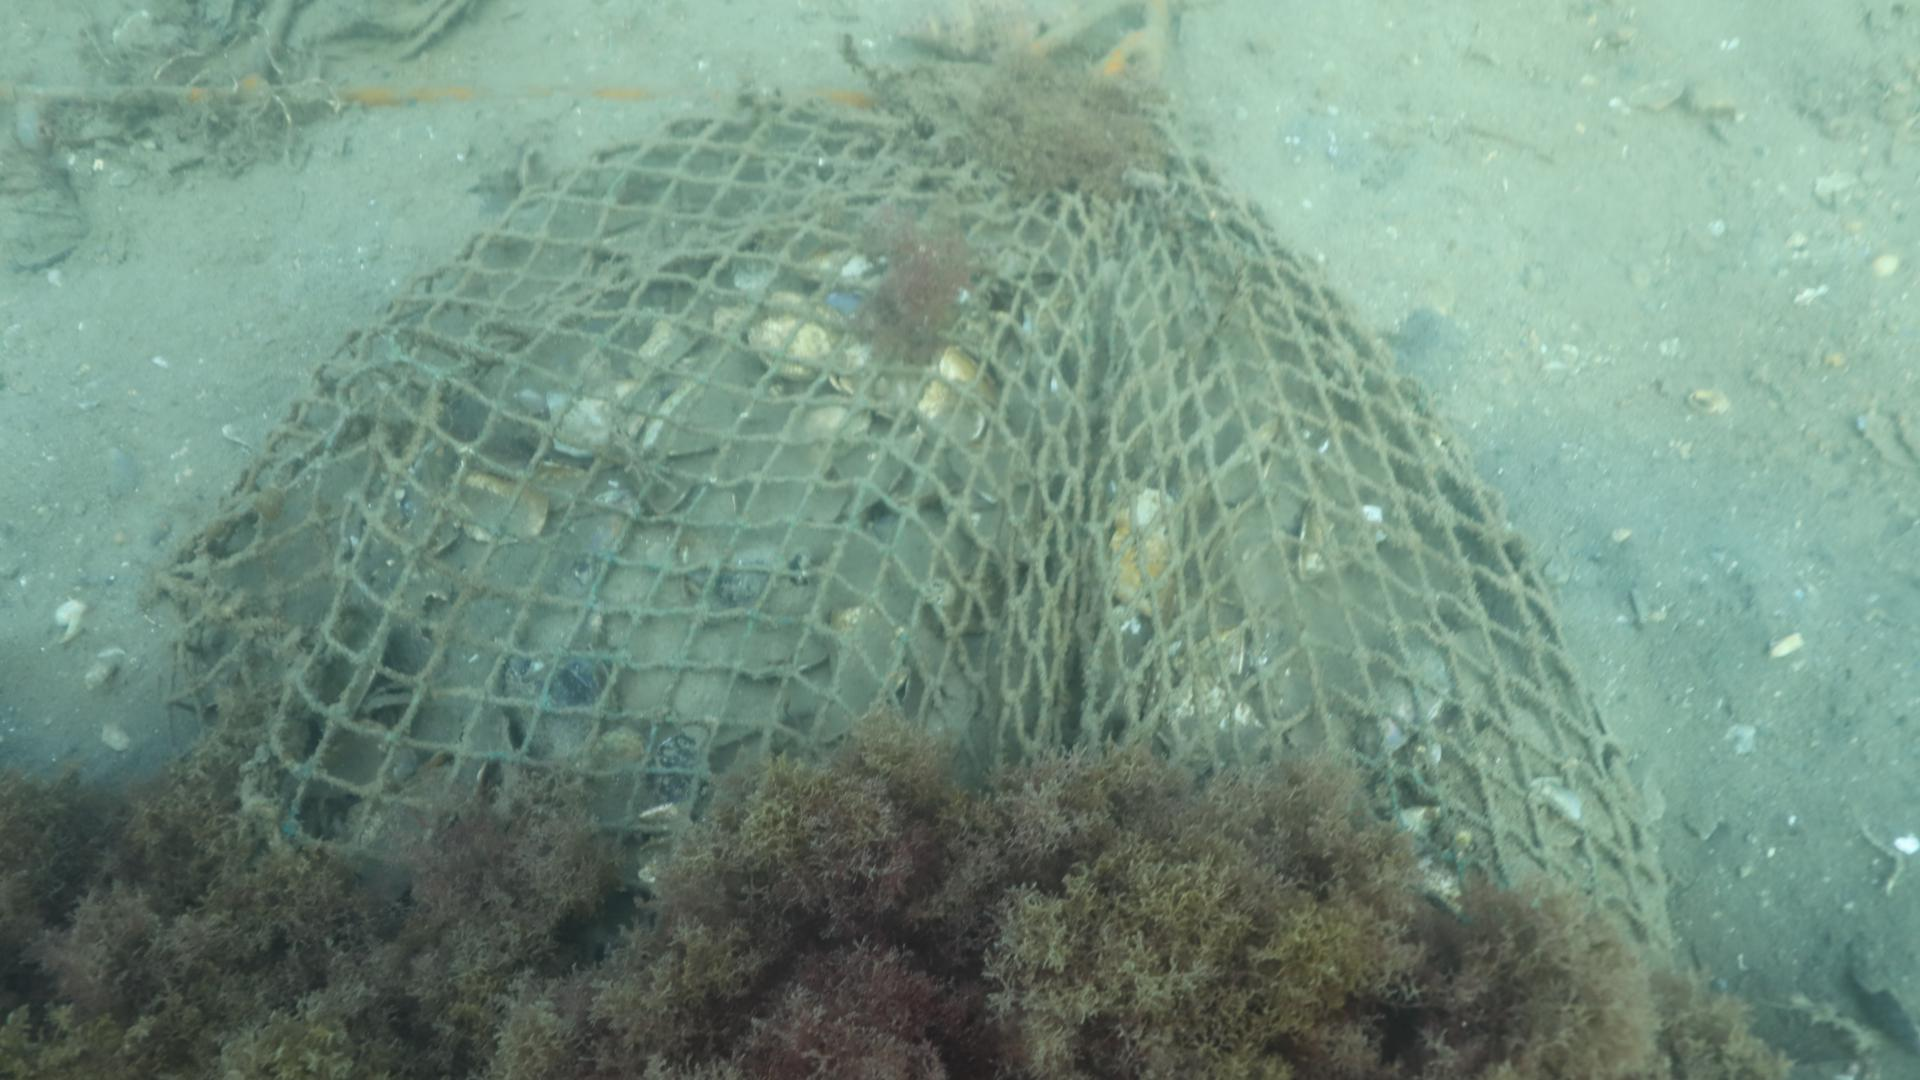fish net: (166, 99, 1669, 936)
